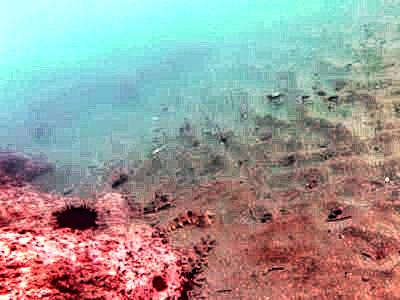urchin: (52, 202, 96, 229)
